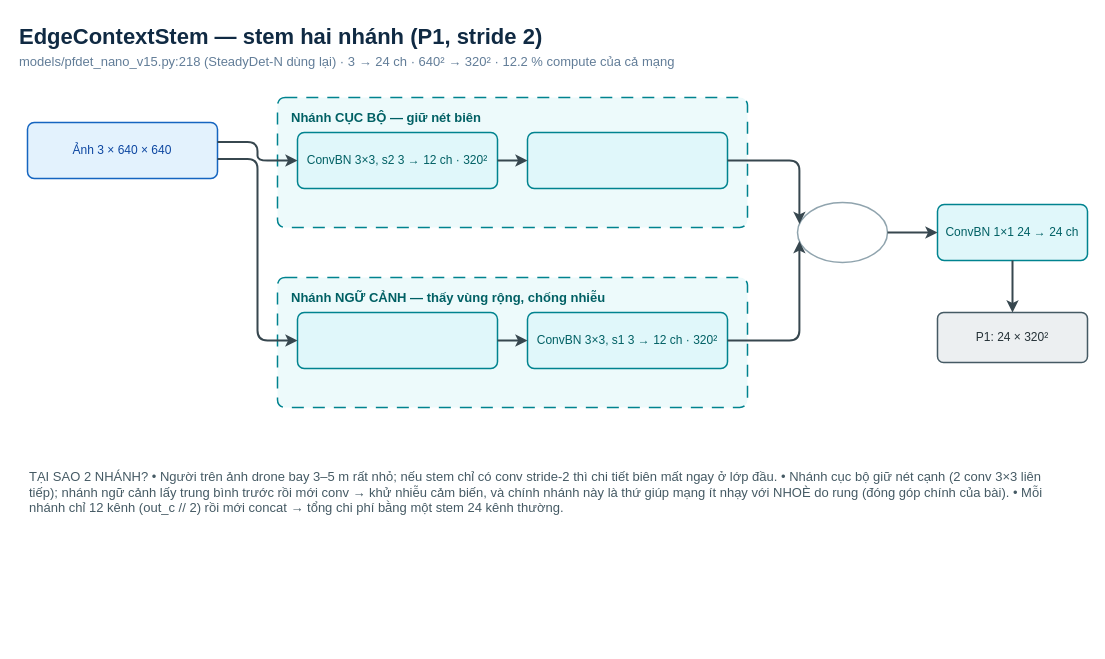
The diagram is 1105 pixels wide and 659 high, and some of its shapes have lost their labels. The shapes that lost their labels are listed below. From the top down, each one's centre as x and y in pixels, then its label:
the point at 627,160: ConvBN 3×3, s1 12 → 12 ch · 320²
the point at 842,232: concat 24 ch
the point at 397,340: AvgPool 2×2, s2 3 ch · 320²
